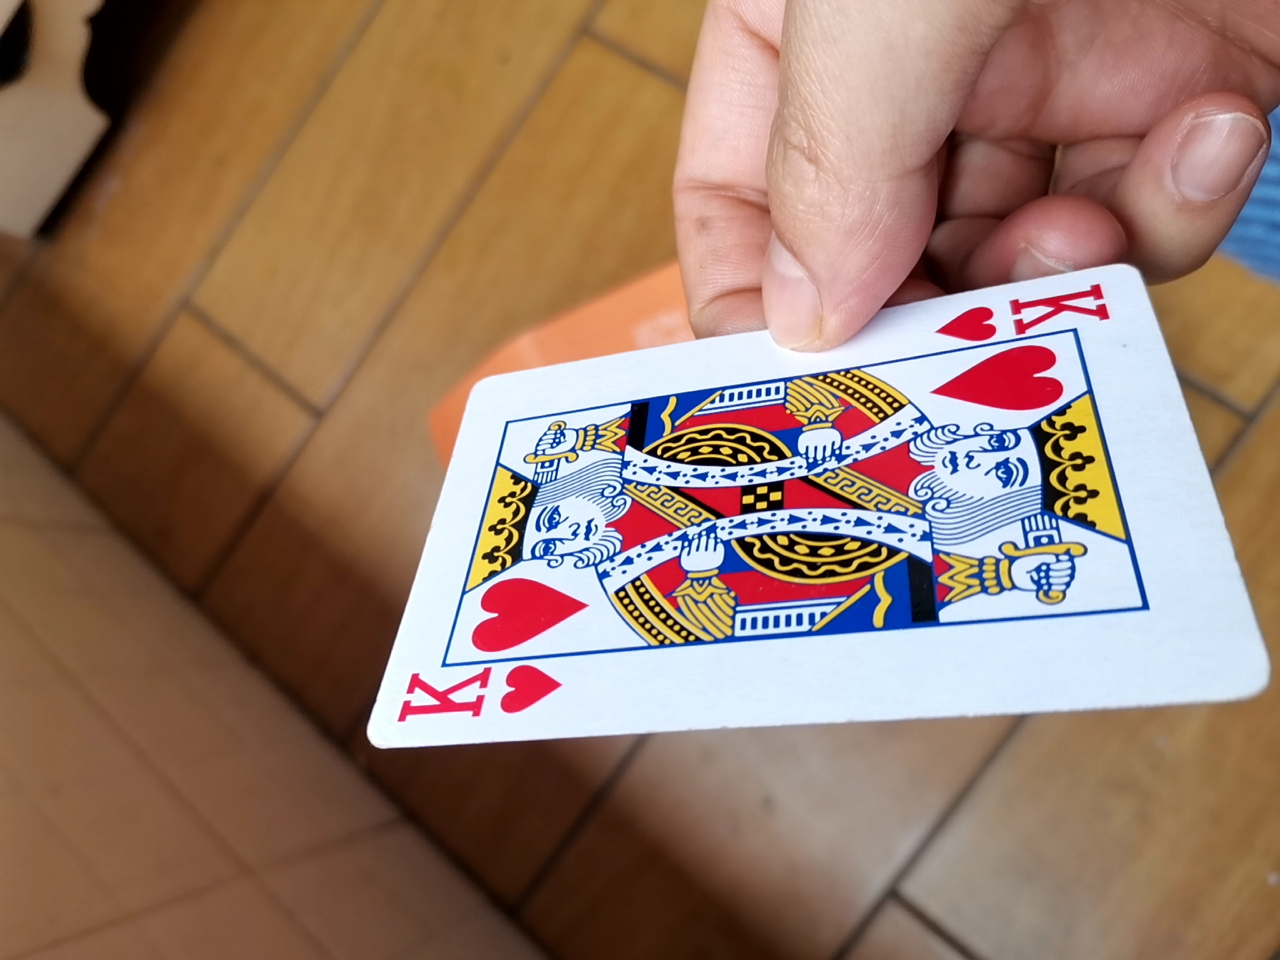hx k: (357, 276, 1260, 746)
